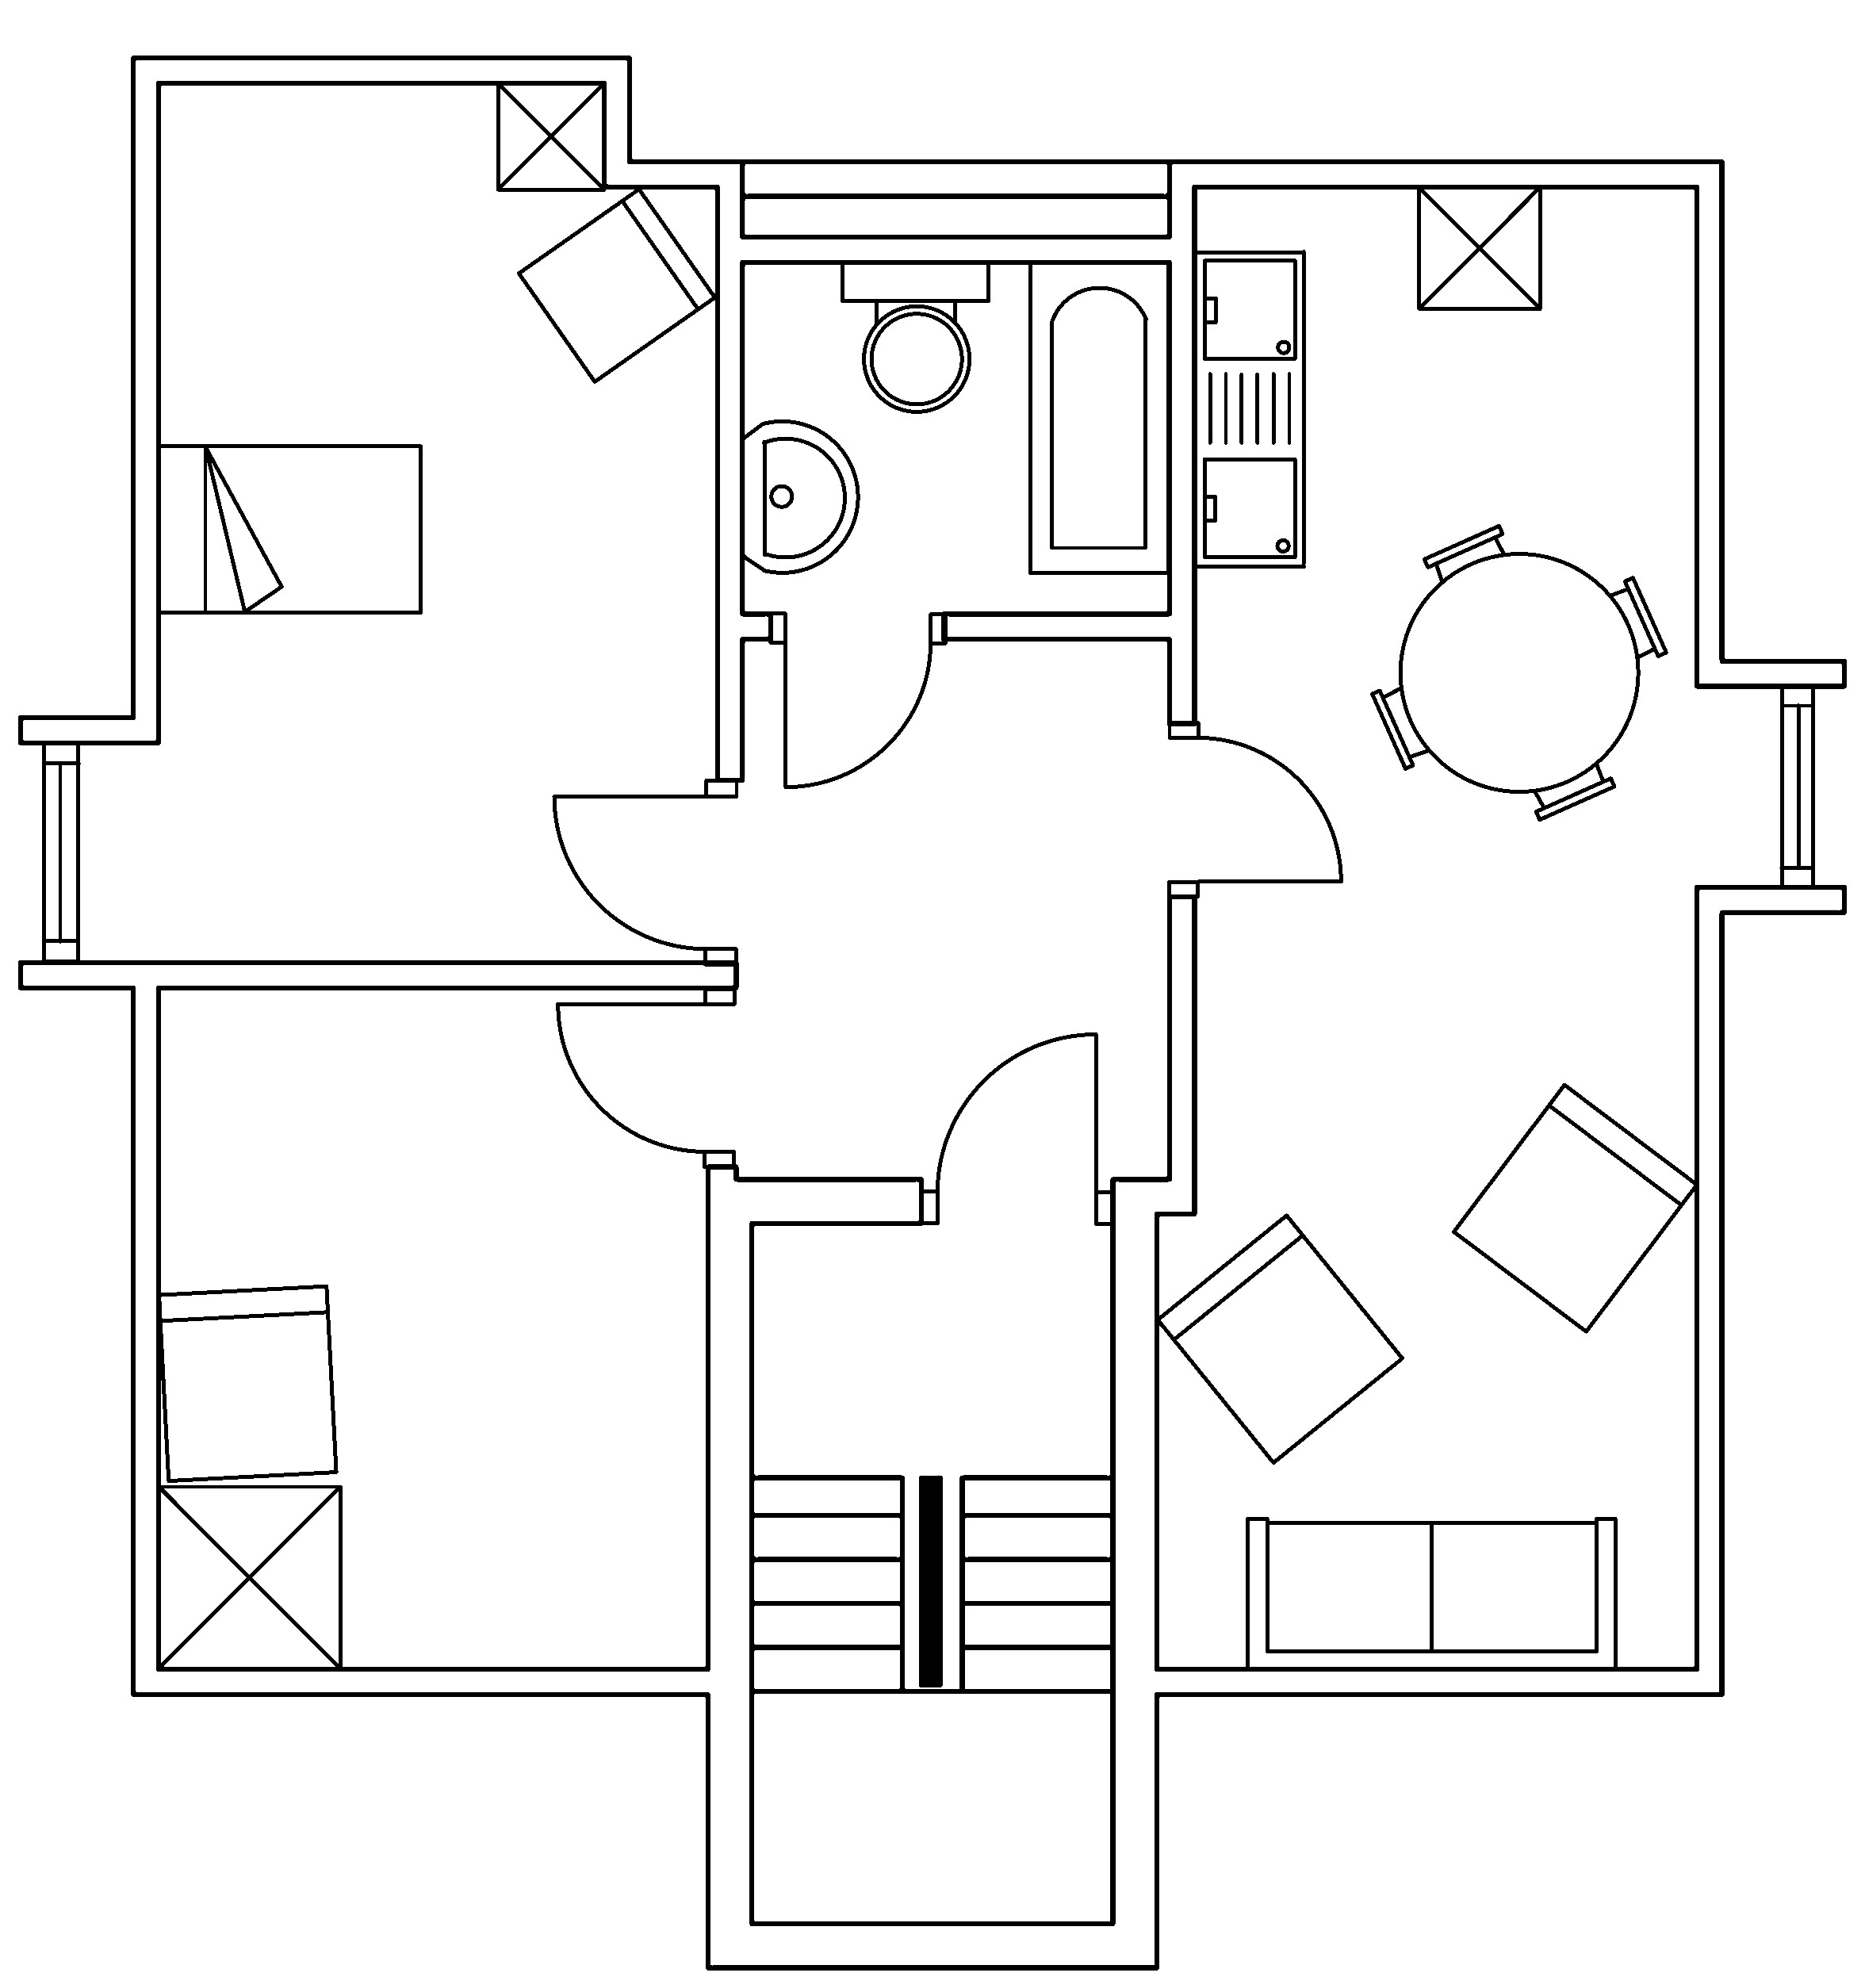bed: (154, 442, 424, 615)
coffee_table: (154, 1481, 342, 1671), (1416, 182, 1542, 310), (494, 79, 606, 191)
large_sink: (840, 258, 990, 412)
large_sofa: (1245, 1515, 1618, 1672)
round_table: (1369, 522, 1669, 822)
small_sink: (740, 419, 859, 573)
small_sofa: (1153, 1211, 1406, 1464), (1450, 1082, 1698, 1334), (515, 186, 717, 384), (156, 1282, 338, 1483)
tub: (1027, 258, 1171, 575)
twin_sink: (1192, 247, 1308, 570)
